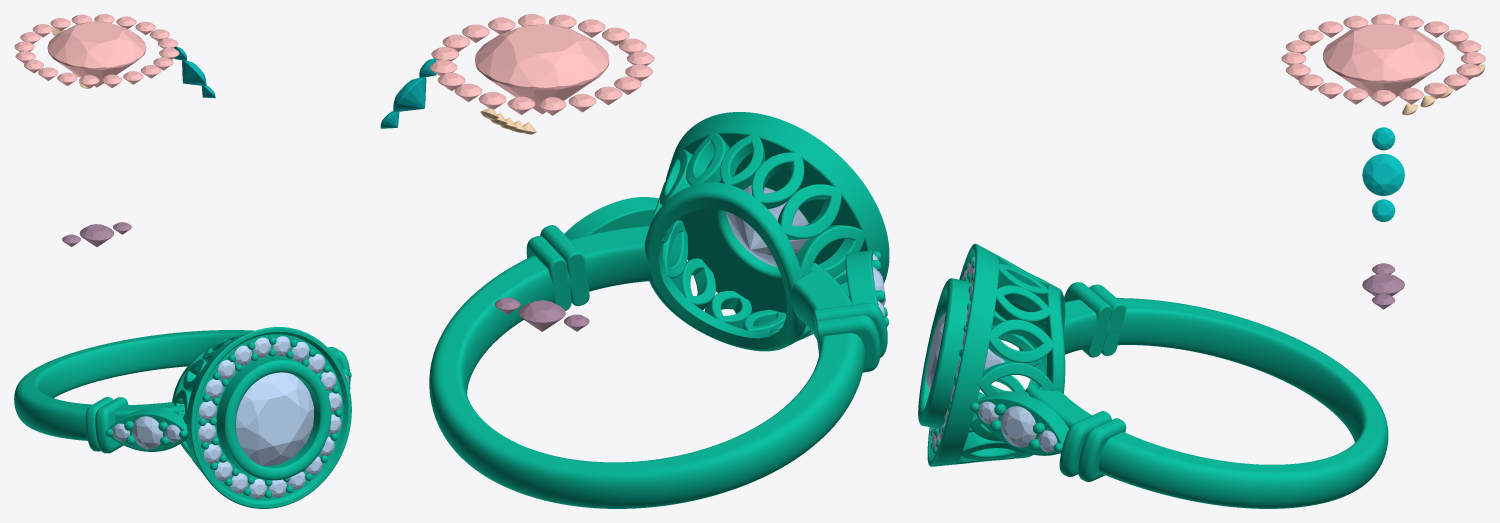
3 views of the same model, side by side, from view 1: azimuth 30°, elevation 25°; view 2: azimuth 150°, elevation 25°; view 3: azimuth 270°, elevation 25° (orthographic). The views are drawn at different scales.
Parts seen in each view (by area): view 1: JTC-4254(base).3dm, Diamond_Round (×5); view 2: JTC-4254(base).3dm, Diamond_Round (×4); view 3: JTC-4254(base).3dm, Diamond_Round (×5).
Part boxes in pixels (x1,y1,x2,y2): JTC-4254(base).3dm: (14,327,351,508); Diamond_Round (×5): (47,21,313,465); JTC-4254(base).3dm: (429,112,889,508); Diamond_Round (×4): (393,24,808,331); JTC-4254(base).3dm: (918,243,1388,508); Diamond_Round (×5): (926,23,1444,447).
Bounding box in the file's own units: 2.42 × 2.84 × 3.47.
